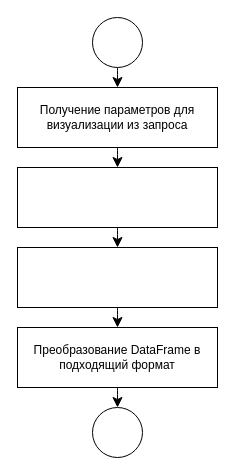
Some shapes in this 235 by 475 pixel diagram are drawn without their labels. The shapes that lost their labels are listed below. From the top down, each one's box as (x1, y1, x2, y2) in pixels, then its label:
(16, 166, 218, 228): Построение SQL-запроса с параметрами
(16, 246, 218, 308): Расчет минимальных и максимальных значений для широты и долготы
